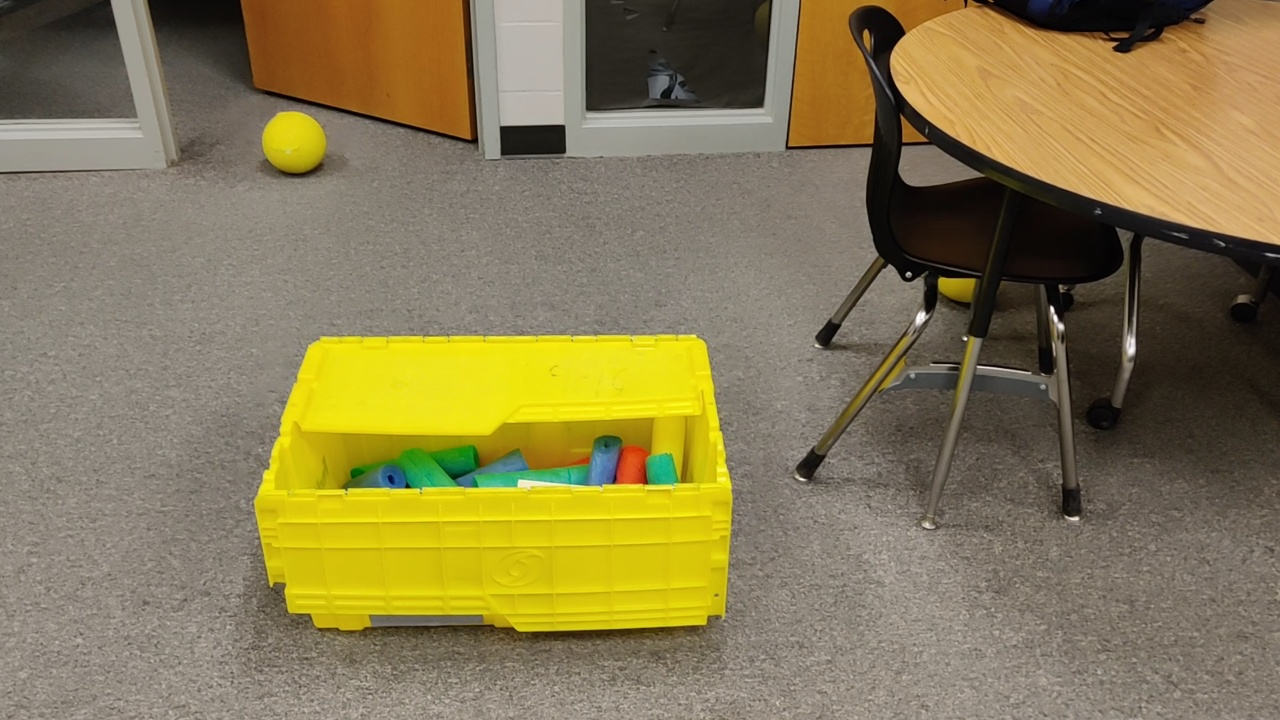Ball: (258, 108, 330, 169), (934, 277, 978, 309)
